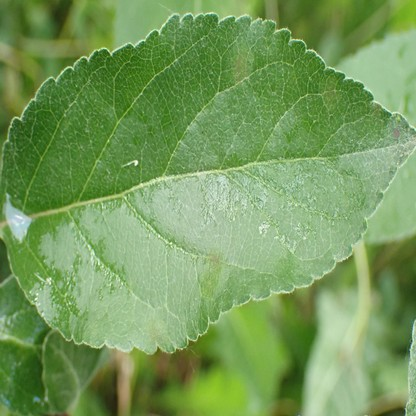powdery_mildew: (387, 112, 416, 156)
scab: (202, 249, 224, 298), (321, 73, 340, 110), (146, 315, 167, 348), (233, 51, 251, 81)
